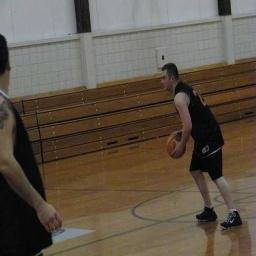ball: (166, 132, 186, 158)
human: (0, 33, 65, 256), (158, 62, 244, 230)
